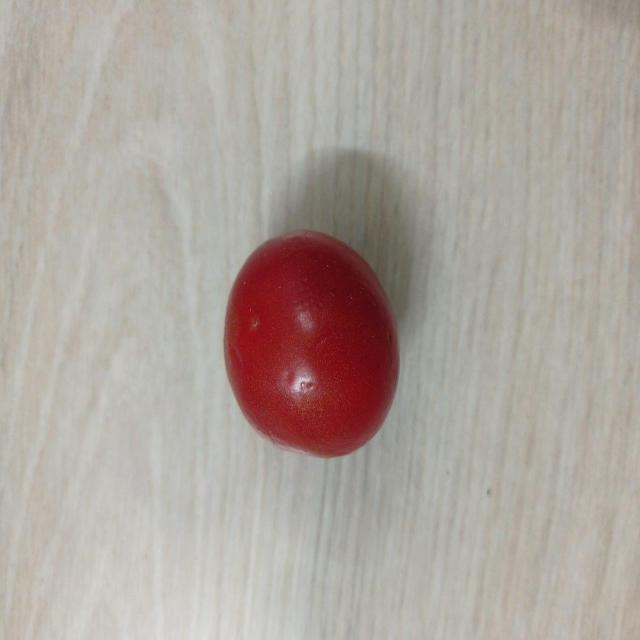Tomato: (222, 227, 402, 458)
